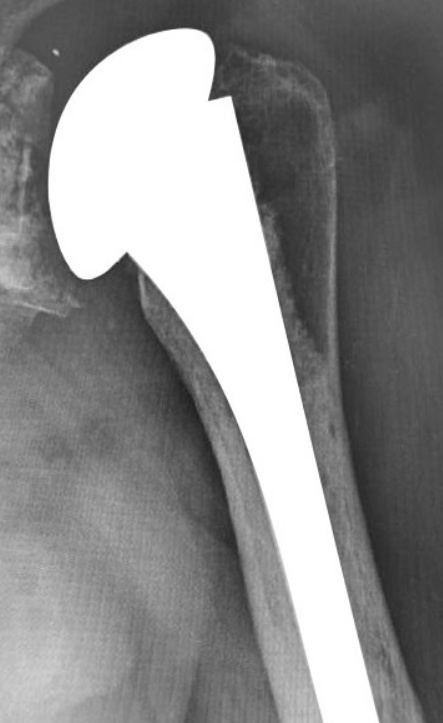Shoulder - Anotomyhead - Stryker: (34, 17, 247, 289)
Shoulder - Anotomytail - Stryker: (110, 76, 337, 515)
